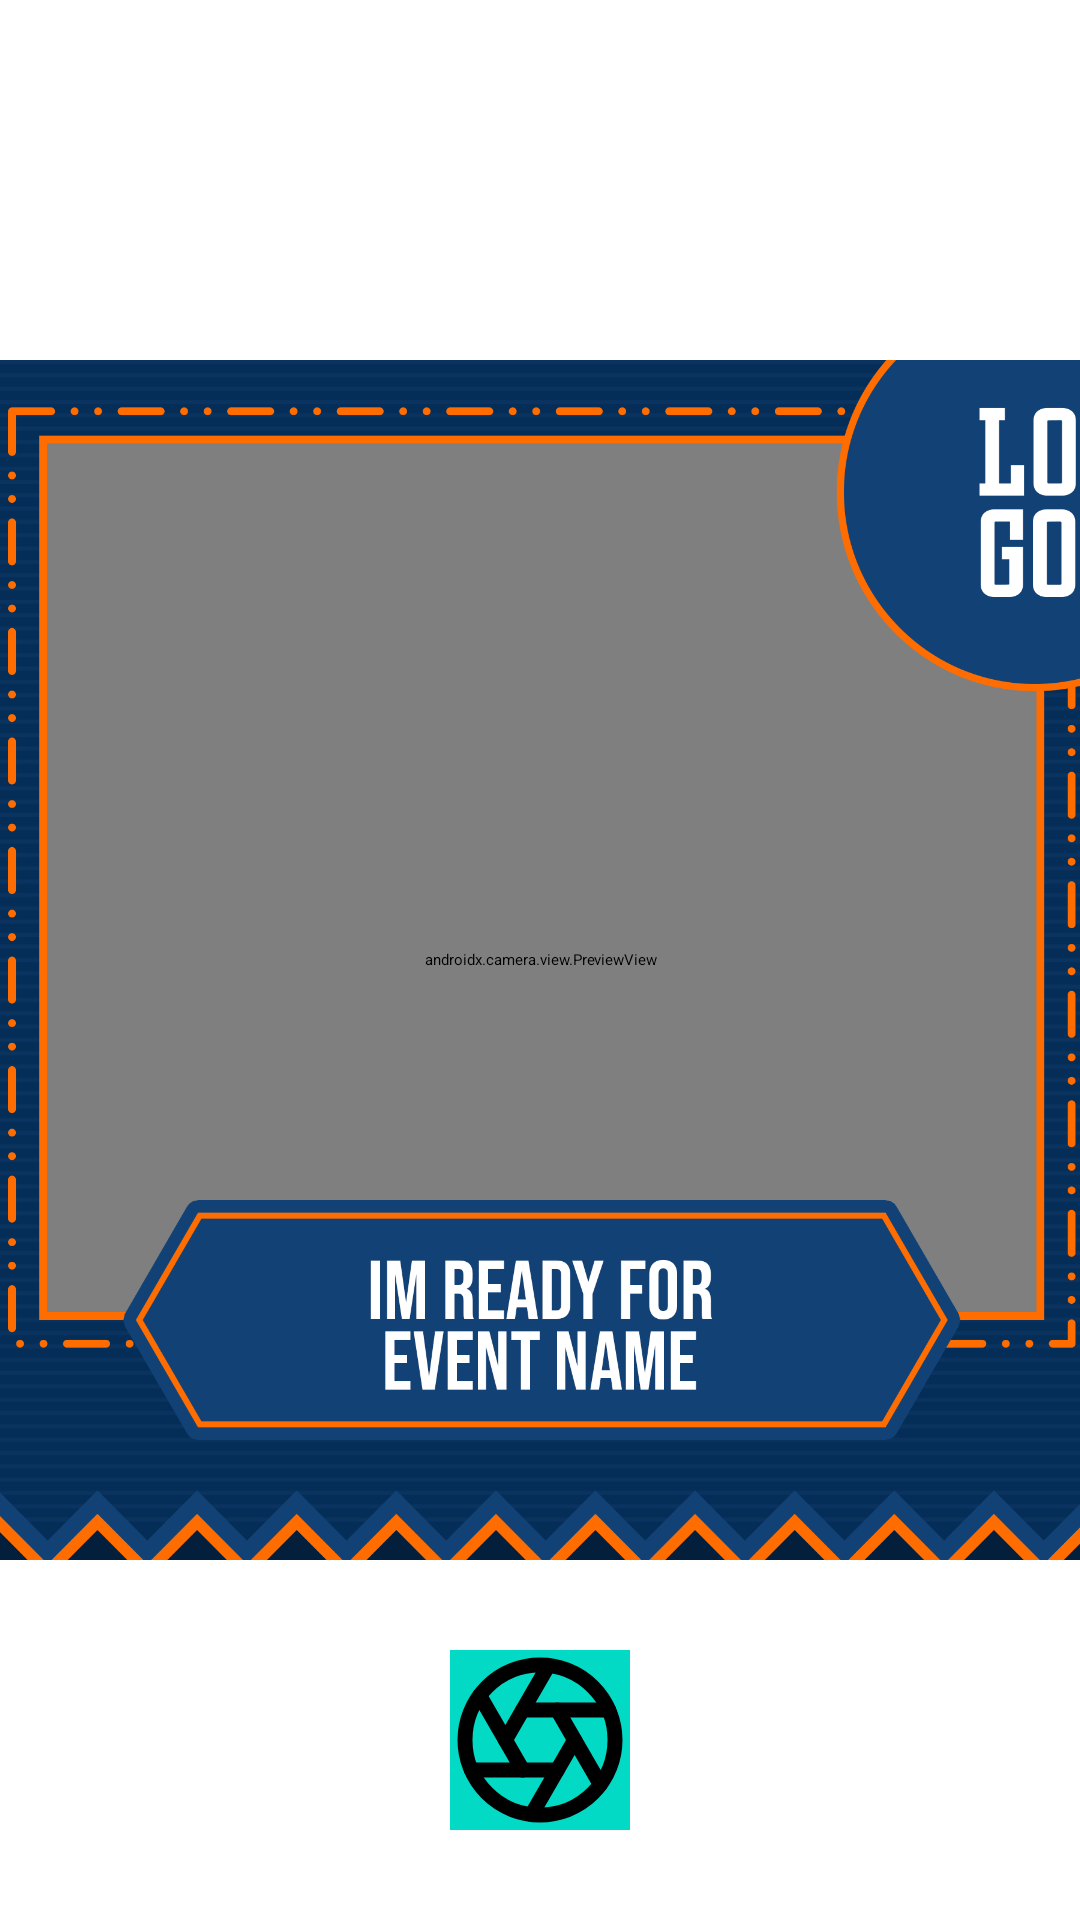

Screen size 1080*1920. Icon name, then its box in pixels as bbox=(x1, y1, x2, y2):
Capture Twibbon: bbox=(450, 1650, 630, 1830)
